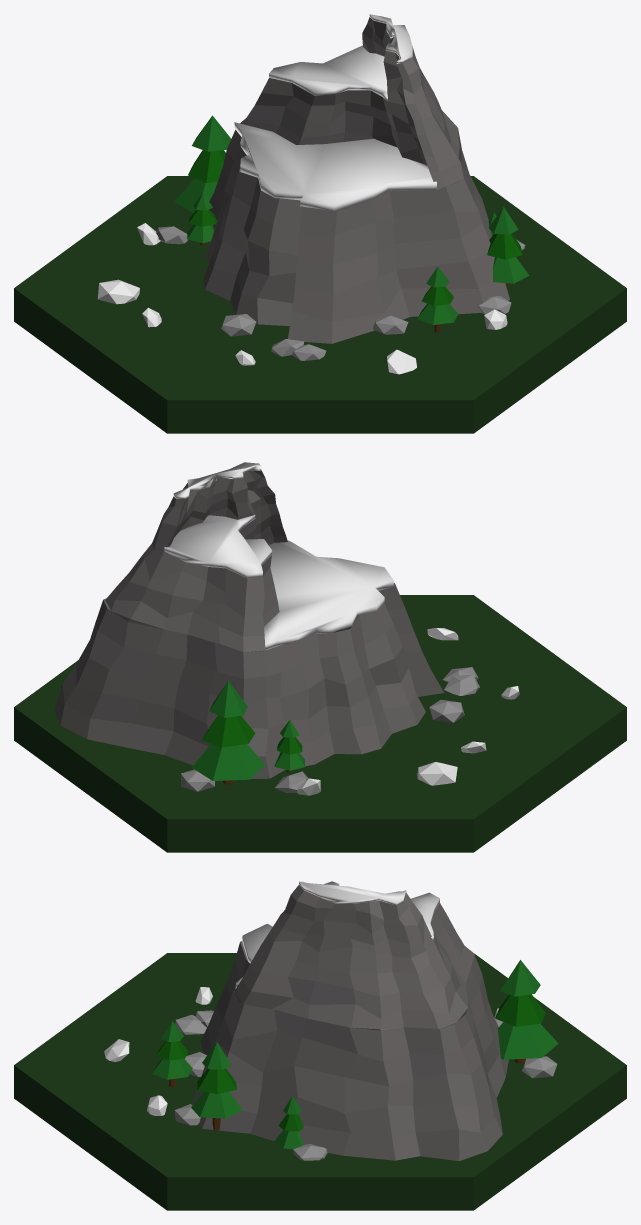
Rendered from mountain_keystone_sprint3_pointY.glb.
3 renders of one model, top to bottom at view 1: azimuth 30°, elevation 25°; view 2: azimuth 150°, elevation 25°; view 3: azimuth 270°, elevation 25°, orthographic.
Parts seen in each view (by area): view 1: Cylinder, Plane, Plane.001, Plane.002, Plane.003, Low Poly Mountain Pine.001, Low Poly Mountain Pine.002, Extra Low Poly Mountain Rock, Low Poly Mountain Pine.006, Low Poly Mountain Pine, Low Poly Mountain Pine.007, Low Poly Mountain Pine.009 (+1 smaller); view 2: Cylinder, Plane, Plane.001, Plane.002, Low Poly Mountain Pine, Low Poly Mountain Pine.001, Plane.003, Low Poly Mountain Pine.002, Extra Low Poly Mountain Rock, Icosphere.007, Icosphere.006; view 3: Plane, Cylinder, Low Poly Mountain Pine, Plane.003, Low Poly Mountain Pine.001, Low Poly Mountain Pine.006, Low Poly Mountain Pine.002, Low Poly Mountain Pine.007, Low Poly Mountain Pine.009, Plane.001, Icosphere, Plane.002 (+4 smaller).
Part boxes in pixels (x1=…): Cylinder: x1=14, y1=176, x2=626, y2=433; Plane: x1=203, y1=17, x2=509, y2=343; Plane.001: x1=234, y1=122, x2=436, y2=211; Plane.002: x1=269, y1=45, x2=387, y2=101; Plane.003: x1=369, y1=14, x2=412, y2=63; Low Poly Mountain Pine.001: x1=188, y1=150, x2=225, y2=182; Low Poly Mountain Pine.002: x1=192, y1=115, x2=230, y2=151; Extra Low Poly Mountain Rock: x1=97, y1=279, x2=139, y2=304; Low Poly Mountain Pine.006: x1=492, y1=257, x2=529, y2=283; Low Poly Mountain Pine: x1=174, y1=178, x2=217, y2=212; Low Poly Mountain Pine.007: x1=487, y1=233, x2=522, y2=259; Low Poly Mountain Pine.009: x1=417, y1=303, x2=458, y2=324; Cylinder: x1=14, y1=595, x2=626, y2=852; Plane: x1=54, y1=470, x2=444, y2=778; Plane.001: x1=264, y1=540, x2=393, y2=650; Plane.002: x1=164, y1=515, x2=272, y2=578; Low Poly Mountain Pine: x1=191, y1=744, x2=265, y2=780; Low Poly Mountain Pine.001: x1=202, y1=715, x2=255, y2=747; Plane.003: x1=173, y1=462, x2=261, y2=498; Low Poly Mountain Pine.002: x1=209, y1=681, x2=247, y2=717; Extra Low Poly Mountain Rock: x1=417, y1=762, x2=457, y2=785; Icosphere.007: x1=429, y1=699, x2=464, y2=722; Icosphere.006: x1=444, y1=674, x2=479, y2=695; Plane: x1=191, y1=885, x2=508, y2=1161; Cylinder: x1=14, y1=953, x2=626, y2=1210; Low Poly Mountain Pine: x1=498, y1=1022, x2=558, y2=1059; Plane.003: x1=299, y1=881, x2=406, y2=905; Low Poly Mountain Pine.001: x1=495, y1=994, x2=545, y2=1026; Low Poly Mountain Pine.006: x1=191, y1=1091, x2=242, y2=1118; Low Poly Mountain Pine.002: x1=500, y1=960, x2=540, y2=996; Low Poly Mountain Pine.007: x1=197, y1=1068, x2=236, y2=1094; Low Poly Mountain Pine.009: x1=152, y1=1058, x2=192, y2=1079; Plane.001: x1=235, y1=923, x2=461, y2=988; Icosphere: x1=522, y1=1056, x2=557, y2=1078; Plane.002: x1=411, y1=892, x2=439, y2=939.
Size of the model in its own units: 4.33 by 2.3 by 5.
